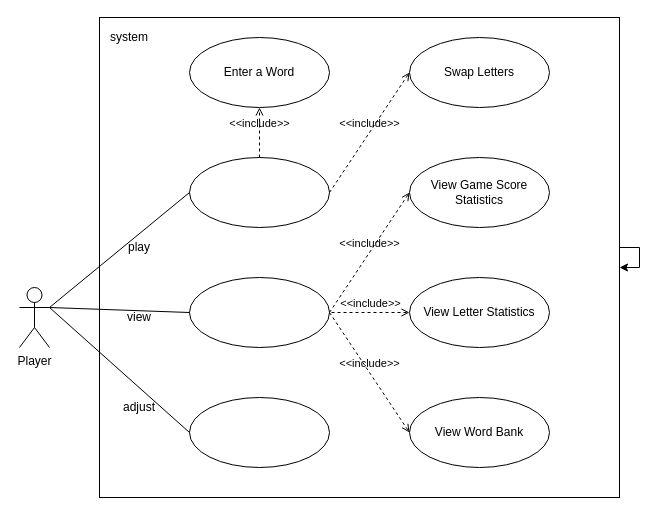
This 665x523 diagram has some shape labels left out. The centre of each missing label's shape, as x and y in pixels:
"Adjust Game Settings" belongs at point 259,432.
"Play a Word Game" belongs at point 259,192.
"View Statistics" belongs at point 259,312.
